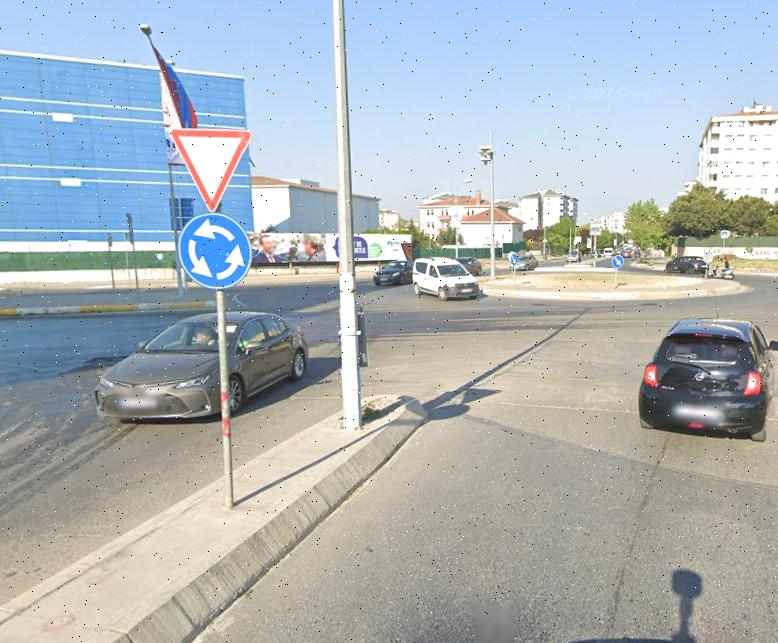crossroads: (181, 214, 254, 286)
